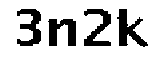2: (80, 5, 117, 49)
3: (12, 8, 42, 49)
k: (115, 5, 153, 53)
n: (46, 15, 83, 48)
